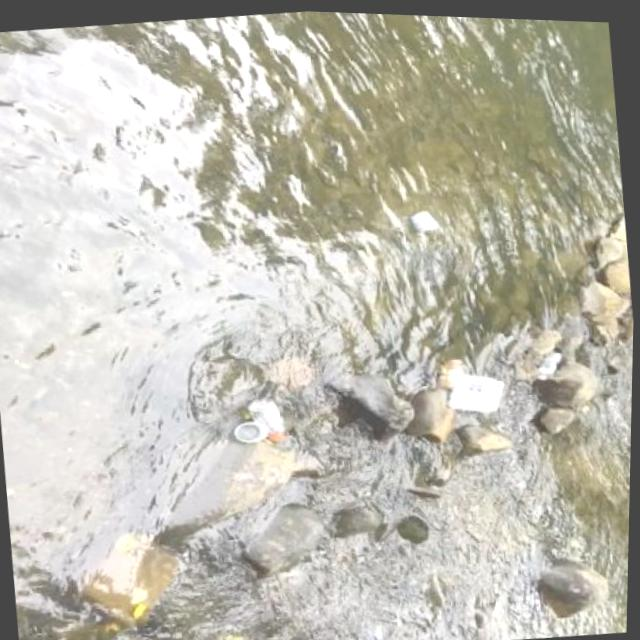Can-Metal: (404, 204, 444, 235)
Plastic: (435, 346, 514, 418), (233, 391, 293, 445)
